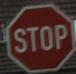Stop sign: (0, 0, 75, 73)
